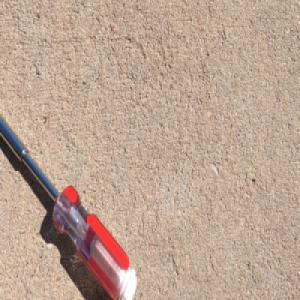Screwdriver: (0, 110, 137, 300)
